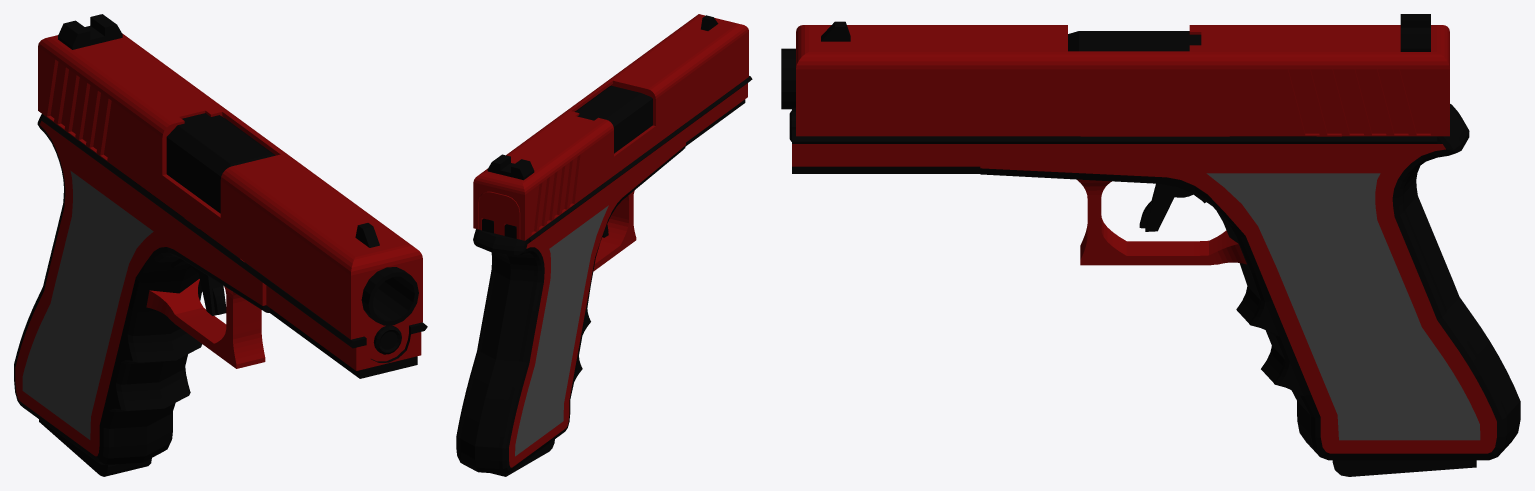
File: gun.fbx
3 renders of one model, left to right at view 1: azimuth 30°, elevation 25°; view 2: azimuth 150°, elevation 25°; view 3: azimuth 270°, elevation 25°, orthographic. The views are drawn at different scales.
Parts seen in each view (by area): view 1: fixedUnitMesh, slideUnitMesh, triggerMesh; view 2: fixedUnitMesh, slideUnitMesh; view 3: fixedUnitMesh, slideUnitMesh, triggerMesh.
Boxes of the visible parts, x1,y1,x2,y2 form: fixedUnitMesh: (14, 113, 427, 476); slideUnitMesh: (38, 14, 422, 361); triggerMesh: (190, 229, 226, 315); fixedUnitMesh: (456, 76, 752, 476); slideUnitMesh: (473, 14, 748, 240); fixedUnitMesh: (781, 31, 1520, 476); slideUnitMesh: (796, 14, 1449, 136); triggerMesh: (1139, 183, 1192, 231).
Bounding box in the file's own units: 109 × 561 × 850.
